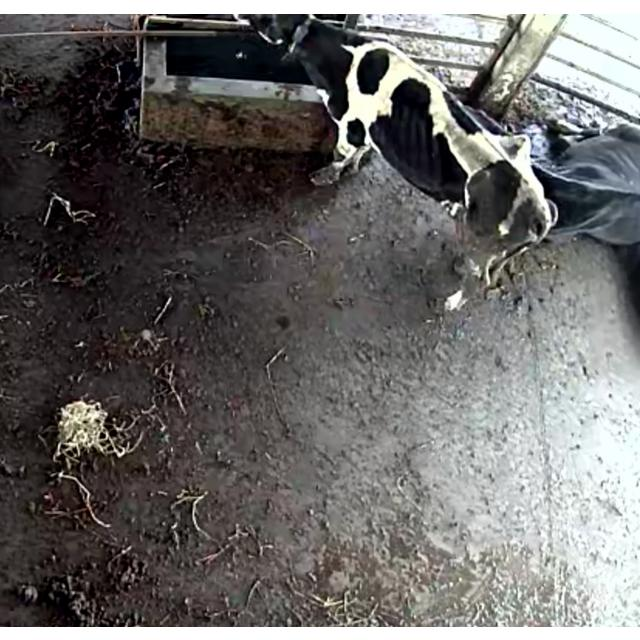drink: (218, 13, 370, 108)
